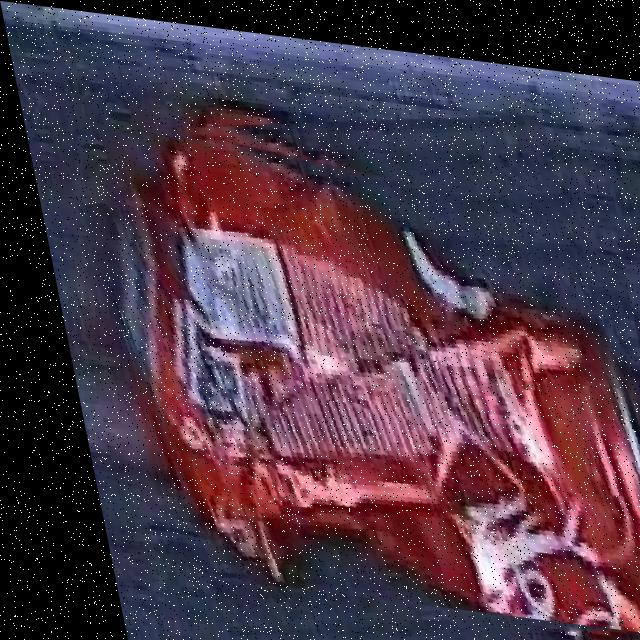can: (104, 132, 640, 620)
